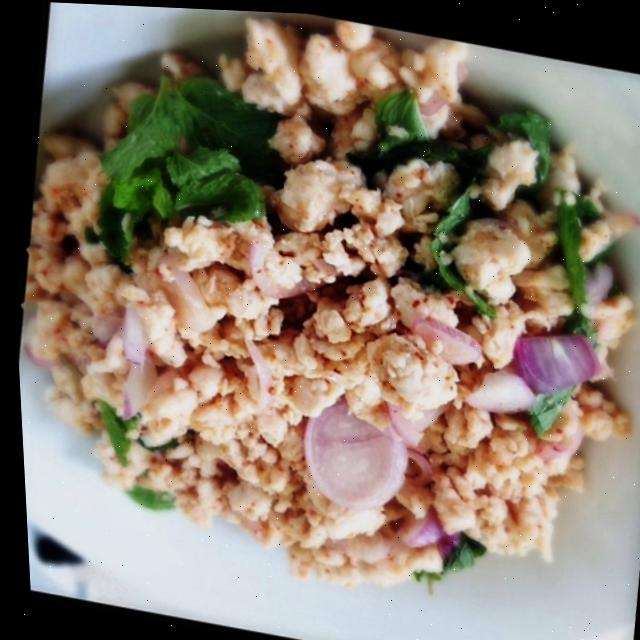鸡肉料理 含炸鸡: (9, 1, 640, 627)
